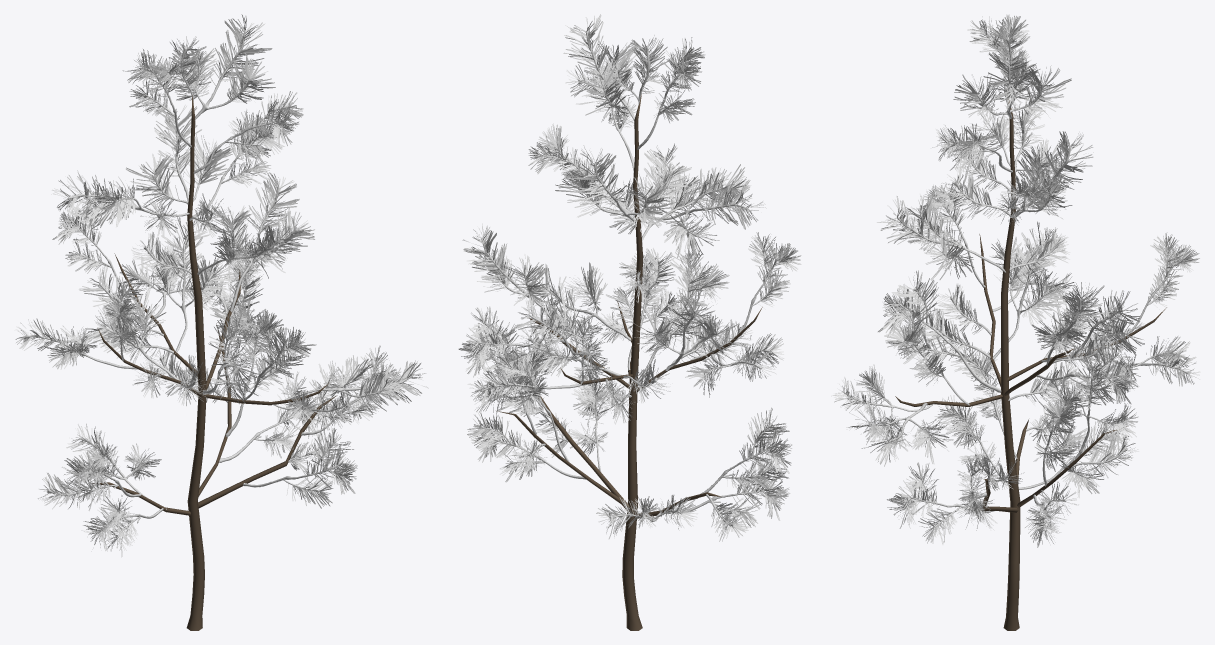
The model's file is SM_Sapling_1.fbx.
3 renders of one model, left to right at view 1: azimuth 30°, elevation 25°; view 2: azimuth 150°, elevation 25°; view 3: azimuth 270°, elevation 25°, orthographic.
Parts seen in each view (by area): view 1: SM_Sapling_1; view 2: SM_Sapling_1; view 3: SM_Sapling_1.
Part boxes in pixels (left/top/right/bottom): SM_Sapling_1: left=15, top=14, right=428, bottom=630; SM_Sapling_1: left=458, top=14, right=801, bottom=630; SM_Sapling_1: left=831, top=14, right=1200, bottom=630.
Bounding box in the file's own units: 78.77 × 72.74 × 130.
